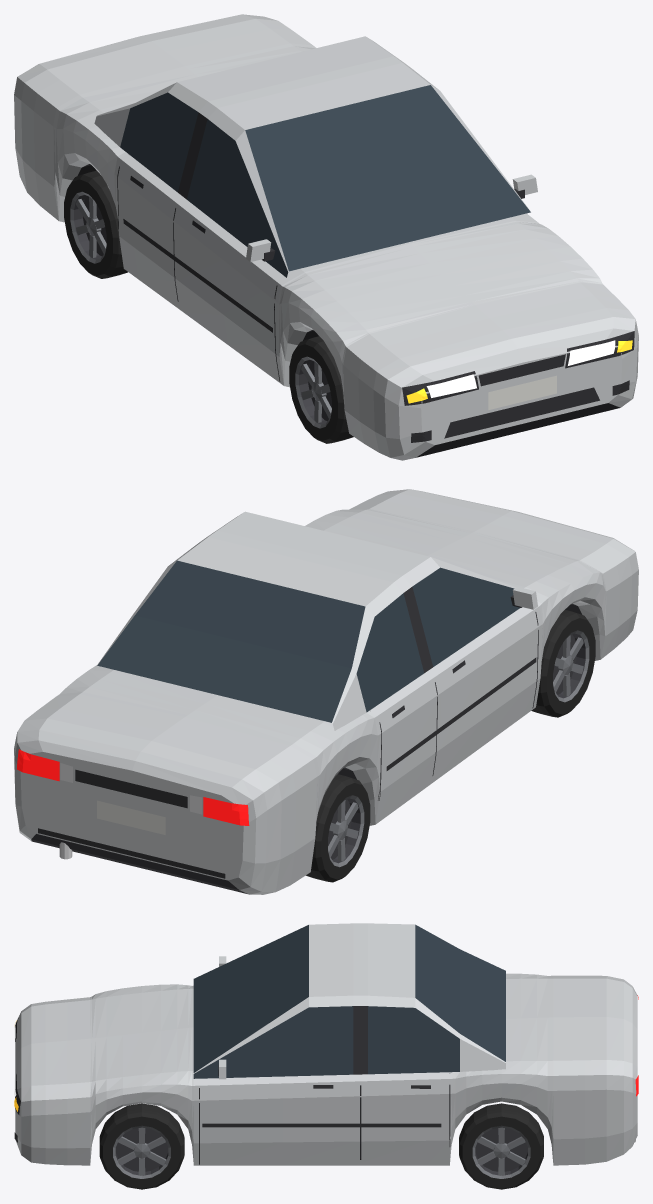
Rendered from starter_sedan.glb.
The picture shows the model from 3 angles, top to bottom: view 1: azimuth 30°, elevation 25°; view 2: azimuth 150°, elevation 25°; view 3: azimuth 270°, elevation 25°; orthographic projection. The views are drawn at different scales.
Parts seen in each view (by area): view 1: body, cabin, body_trim, wheel_rl, wheel_fl, headlight_l, headlight_r, mirrors; view 2: body, cabin, body_trim, wheel_rl, wheel_fl, taillight_l, taillight_r; view 3: body, cabin, wheel_fr, wheel_rr, body_trim.
Boxes of the visible parts, x1,y1,x2,y2 form: body: [14, 14, 638, 460]; cabin: [94, 36, 531, 277]; body_trim: [117, 166, 629, 442]; wheel_rl: [64, 170, 127, 278]; wheel_fl: [289, 336, 353, 443]; headlight_l: [402, 371, 478, 405]; headlight_r: [565, 331, 634, 368]; mirrors: [246, 174, 537, 261]; body: [14, 489, 638, 894]; cabin: [97, 511, 520, 730]; body_trim: [38, 612, 538, 878]; wheel_rl: [306, 774, 370, 882]; wheel_fl: [531, 610, 595, 717]; taillight_l: [190, 795, 249, 825]; taillight_r: [17, 749, 72, 782]; body: [15, 973, 637, 1165]; cabin: [193, 923, 505, 1078]; wheel_fr: [99, 1103, 184, 1189]; wheel_rr: [459, 1103, 543, 1189]; body_trim: [14, 1073, 450, 1164].
Size of the model in its own units: 1.84 by 1.39 by 4.35.
